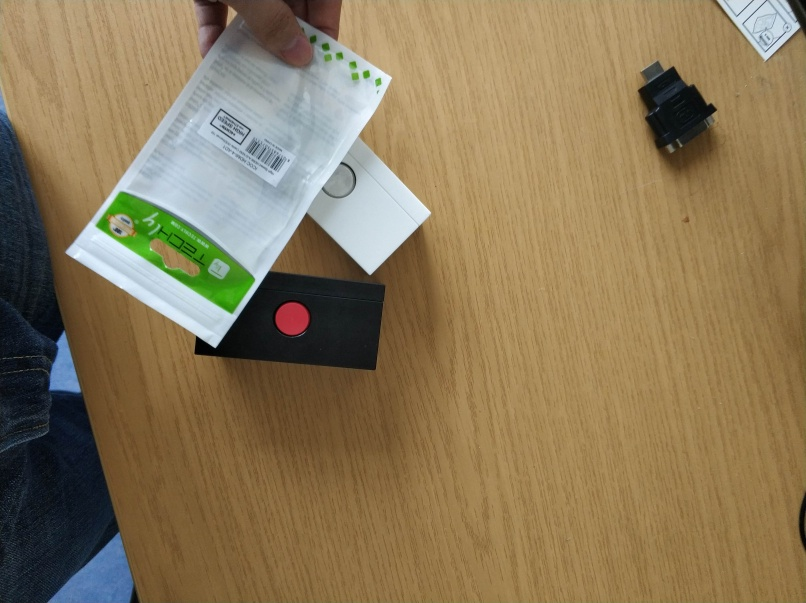black+black+red: (189, 269, 388, 372)
white+white+silver: (305, 130, 433, 282)
